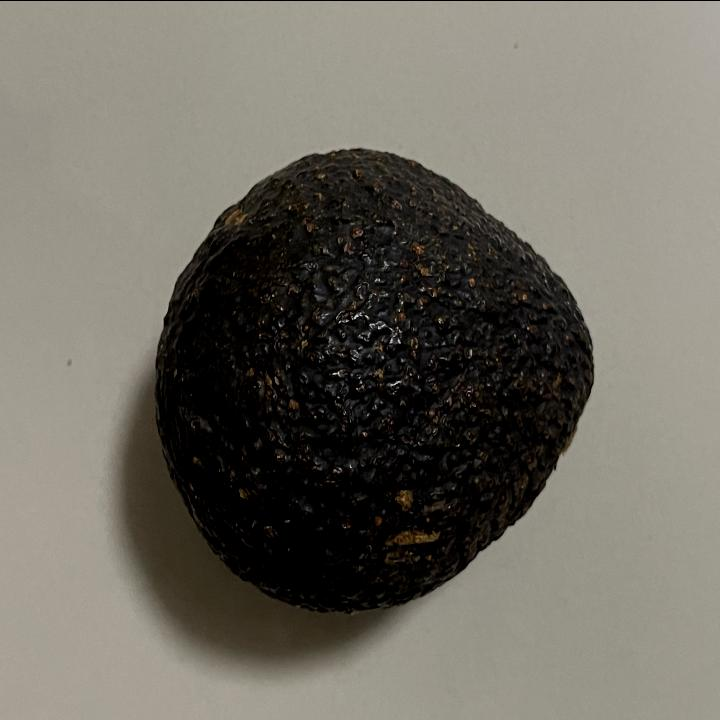Level2: (151, 142, 604, 620)
